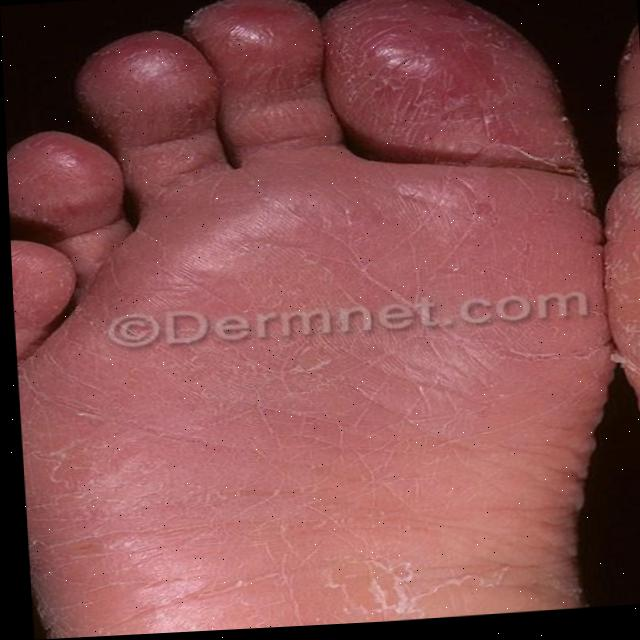Eczema: (196, 10, 532, 451)
